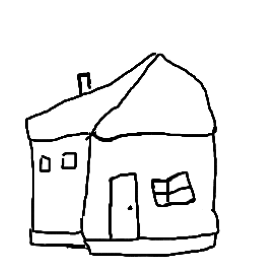bottom_placed_house: (3, 2, 260, 260)
chimney: (67, 65, 100, 106)
closed_window: (145, 167, 199, 212)
door: (104, 164, 148, 250)
open_window: (58, 148, 83, 172), (36, 149, 52, 178)
roof: (13, 45, 236, 149)
wall: (79, 126, 231, 245)
